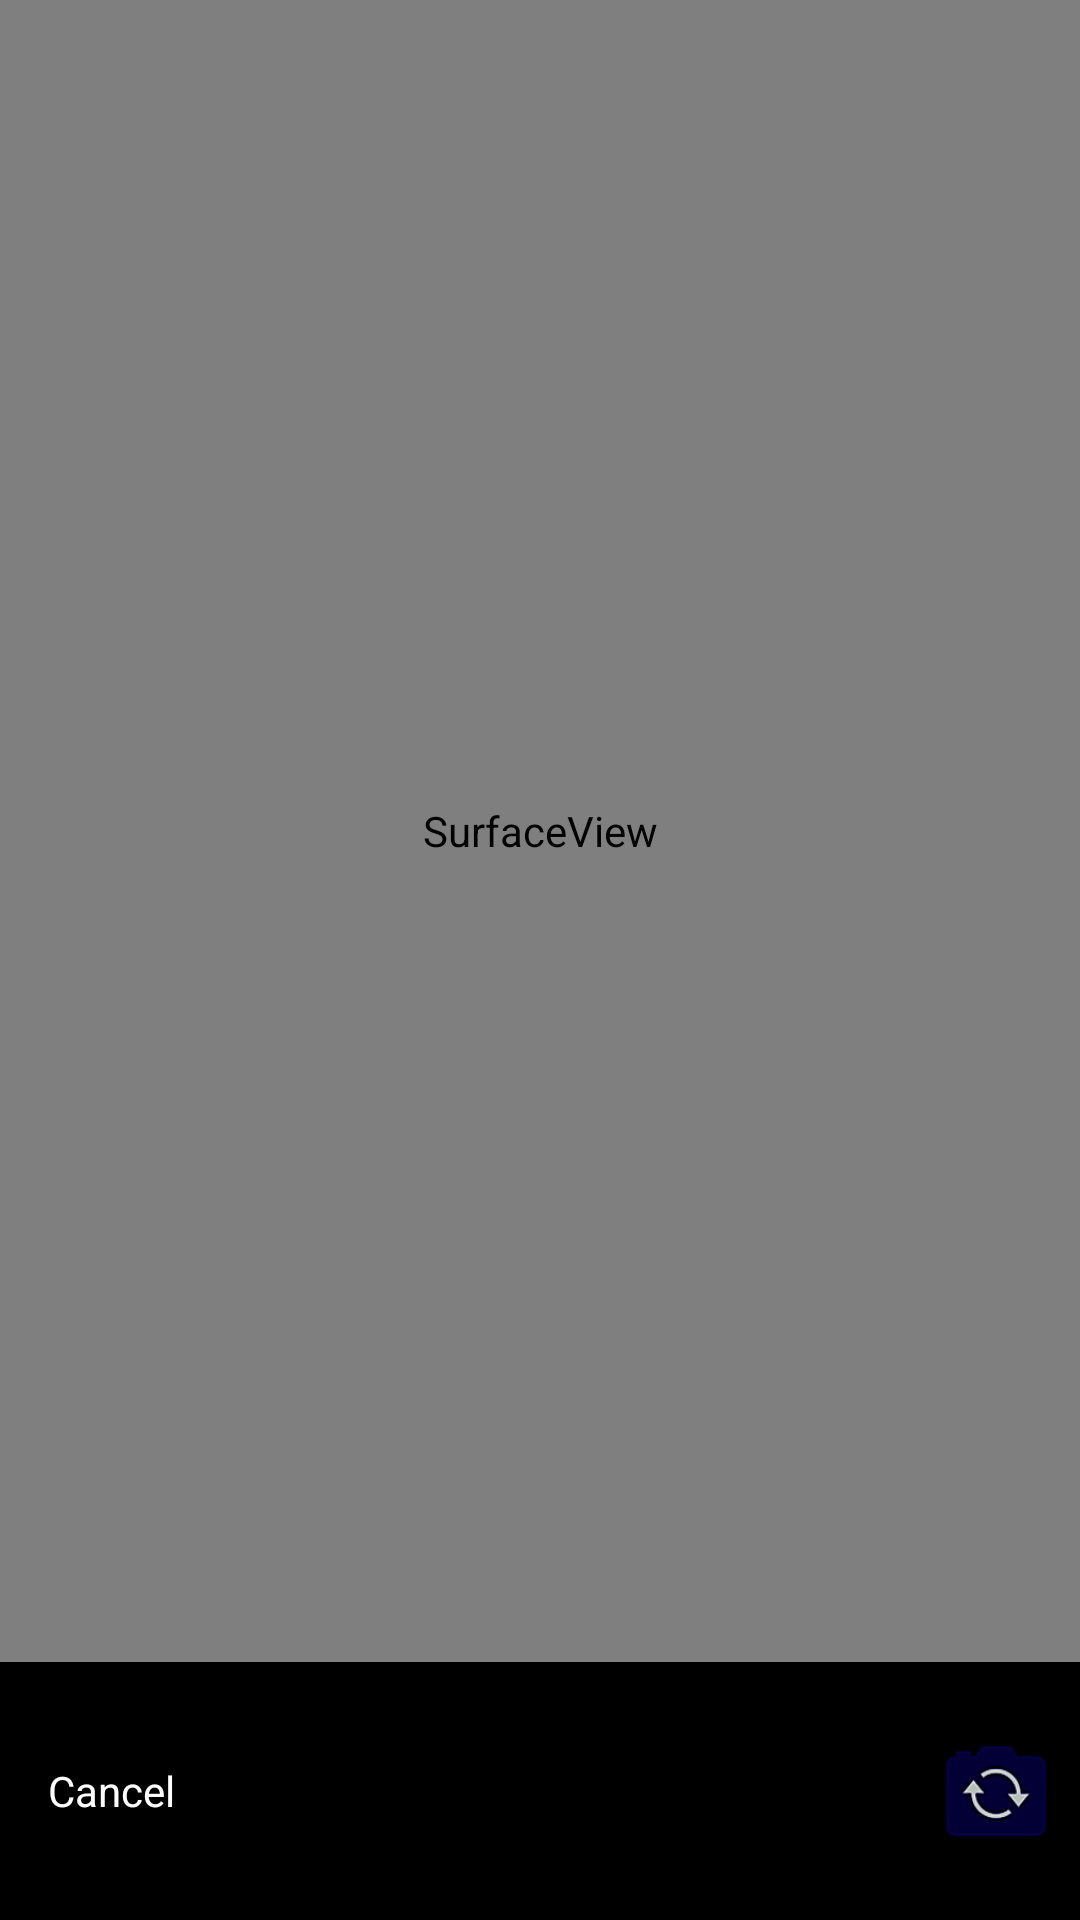

Screen size 1080px x 1920px. Icon name, then its center in pixels as (x=x, y=y):
shot transition: (x=996, y=1791)
